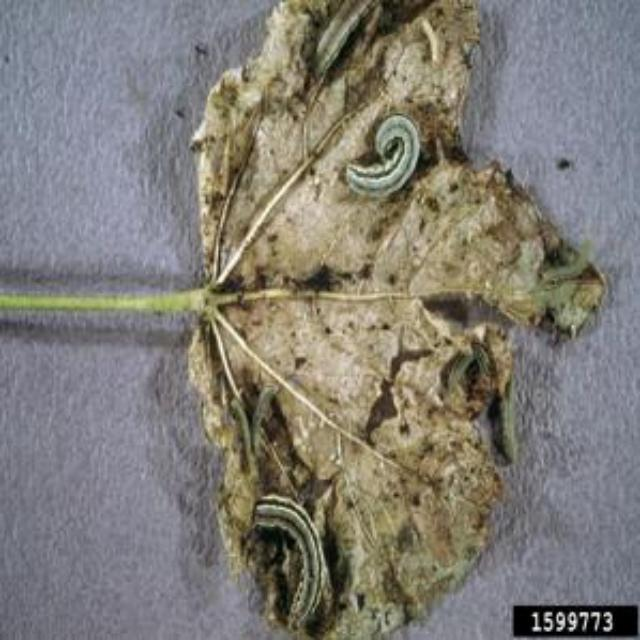Beet armyworm: (224, 477, 348, 638), (314, 98, 436, 200)
